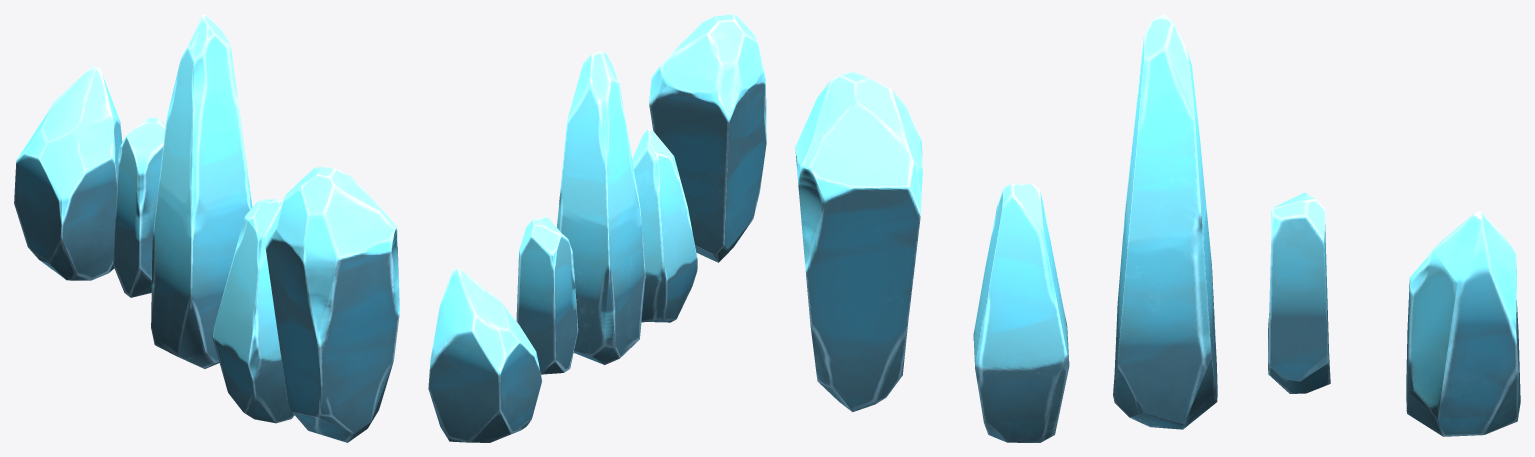
The model's file is fantasy_stylized_crystals.glb.
3 renders of one model, left to right at view 1: azimuth 30°, elevation 25°; view 2: azimuth 150°, elevation 25°; view 3: azimuth 270°, elevation 25°, orthographic. The views are drawn at different scales.
Parts seen in each view (by area): view 1: crystal_1_low, crystal_3_low, crystal_5_low, crystal_2_low, crystal_4_low; view 2: crystal_1_low, crystal_3_low, crystal_5_low, crystal_2_low, crystal_4_low; view 3: crystal_1_low, crystal_3_low, crystal_5_low, crystal_2_low, crystal_4_low.
Boxes of the visible parts, x1=… form: crystal_1_low: x1=265, y1=167, x2=399, y2=442; crystal_3_low: x1=151, y1=14, x2=252, y2=368; crystal_5_low: x1=14, y1=65, x2=122, y2=280; crystal_2_low: x1=212, y1=199, x2=294, y2=423; crystal_4_low: x1=113, y1=117, x2=165, y2=297; crystal_1_low: x1=649, y1=14, x2=766, y2=262; crystal_3_low: x1=557, y1=51, x2=645, y2=364; crystal_5_low: x1=428, y1=268, x2=542, y2=442; crystal_2_low: x1=632, y1=129, x2=697, y2=322; crystal_4_low: x1=516, y1=216, x2=578, y2=374; crystal_1_low: x1=795, y1=71, x2=922, y2=412; crystal_3_low: x1=1113, y1=14, x2=1217, y2=429; crystal_5_low: x1=1406, y1=211, x2=1520, y2=436; crystal_2_low: x1=973, y1=183, x2=1069, y2=442; crystal_4_low: x1=1268, y1=192, x2=1330, y2=393.
Bounding box in the file's own units: 0.9298 × 3.31 × 5.27.
Materials: 1 (1 with a texture image).
